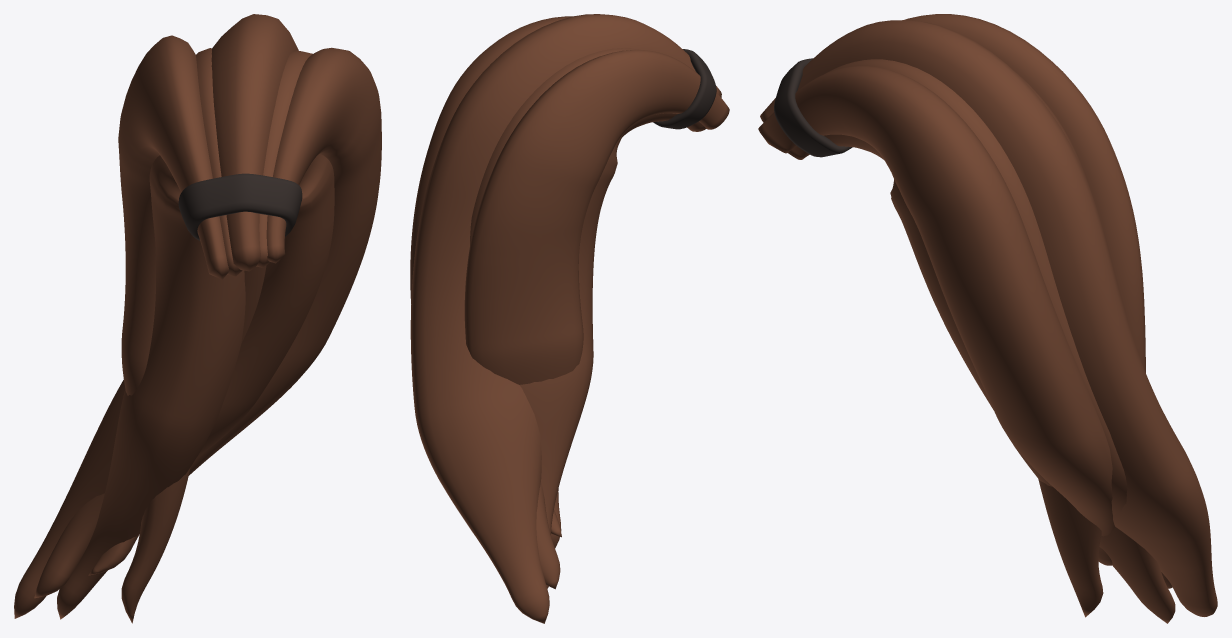
Rendered from ponytail-beanie-default.glb.
The picture shows the model from 3 angles, left to right: view 1: azimuth 30°, elevation 25°; view 2: azimuth 150°, elevation 25°; view 3: azimuth 270°, elevation 25°; orthographic projection. The views are drawn at different scales.
Parts seen in each view (by area): view 1: Hair / rounded tail220 1, Hair / rounded tail220 0, Hair / rounded tail220 4, Hair / rounded tail220 2, Hair / rounded tail220 3, Hair / tie220; view 2: Hair / rounded tail220 2, Hair / rounded tail220 0, Hair / rounded tail220 1, Hair / rounded tail220 4, Hair / tie220, Hair / rounded tail220 3; view 3: Hair / rounded tail220 4, Hair / rounded tail220 2, Hair / rounded tail220 0, Hair / rounded tail220 3, Hair / rounded tail220 1, Hair / tie220.
Boxes of the visible parts, left/top/right/bottom form: Hair / rounded tail220 1: left=57, top=48, right=245, bottom=619; Hair / rounded tail220 0: left=118, top=35, right=228, bottom=623; Hair / rounded tail220 4: left=88, top=47, right=381, bottom=575; Hair / rounded tail220 2: left=14, top=14, right=298, bottom=618; Hair / rounded tail220 3: left=34, top=50, right=334, bottom=598; Hair / tie220: left=178, top=173, right=302, bottom=240; Hair / rounded tail220 2: left=410, top=14, right=721, bottom=623; Hair / rounded tail220 0: left=464, top=50, right=729, bottom=548; Hair / rounded tail220 1: left=470, top=48, right=706, bottom=588; Hair / rounded tail220 4: left=410, top=16, right=571, bottom=537; Hair / tie220: left=653, top=49, right=716, bottom=129; Hair / rounded tail220 3: left=536, top=481, right=560, bottom=589; Hair / rounded tail220 4: left=758, top=66, right=1115, bottom=565; Hair / rounded tail220 2: left=760, top=20, right=1217, bottom=616; Hair / rounded tail220 0: left=904, top=14, right=1145, bottom=617; Hair / rounded tail220 3: left=788, top=59, right=1172, bottom=588; Hair / rounded tail220 1: left=1008, top=71, right=1175, bottom=623; Hair / tie220: left=774, top=58, right=852, bottom=157.
Bounding box in the file's own units: 0.1835 × 0.4144 × 0.2722.
